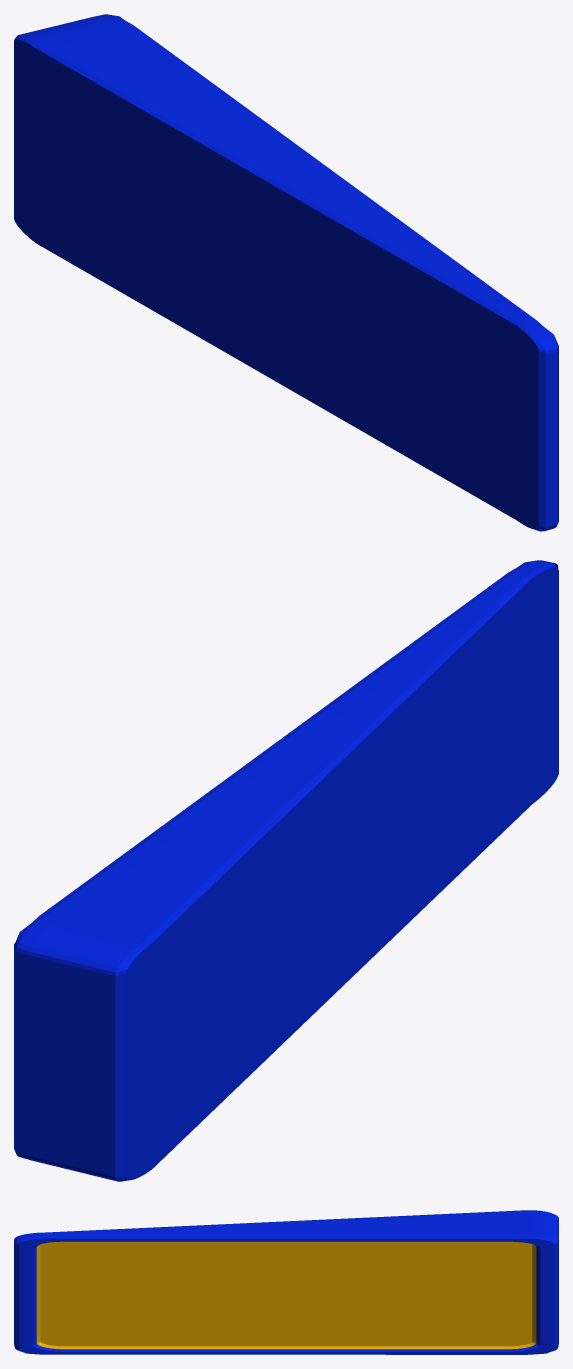
File: Button.fbx
3 renders of one model, top to bottom at view 1: azimuth 30°, elevation 25°; view 2: azimuth 150°, elevation 25°; view 3: azimuth 270°, elevation 25°, orthographic. The views are drawn at different scales.
Visible parts, largest first — view 1: Cube; view 2: Cube; view 3: Cube.
Part boxes in pixels (<box>): Cube: <box>14,14,558,531</box>; Cube: <box>14,560,558,1181</box>; Cube: <box>14,1210,558,1354</box>.
Size of the model in its own units: 3941 by 7550 by 31537.
